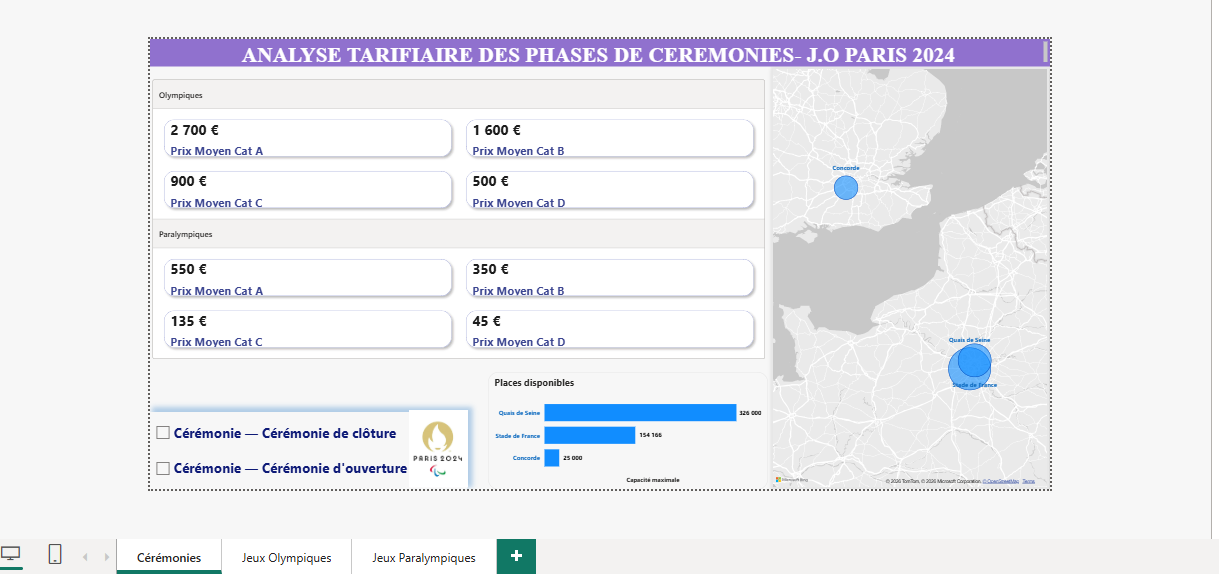

What the dashboard file says about the page in this screenshot:
{"tool":"powerbi","page":{"name":"Cérémonies","canvas":[1800,900],"ordinal":0},"visuals":[{"type":"cardVisual","title":"Tarif d''ensemble","fields":{"Data":["Matrice.Prix Moyen Cérémonie","Sheet 1.Prix Moyen Cat B","Sheet 1.Prix Moyen Cat C","Sheet 1.Prix Moyen Cat D"],"Rows":["Sheet 1.Jeux"]},"box":[0,55,1235,610],"z":0},{"type":"map","fields":{"Category":["Sheet 1.Lieu"],"Size":["Sheet 1.Prix Moyen Cat A"]},"box":[1242.5,55,557.5,845],"z":1000},{"type":"barChart","title":"Places disponibles ","fields":{"Category":["Sheet 1.Lieu"],"Y":["Sum(Sheet 1.capacité)"]},"box":[675,665,560,235],"z":2000},{"type":"slicer","fields":{"Values":["Sheet 1.Epreuve_complète"]},"box":[0,745,635,155],"z":3000},{"type":"textbox","box":[0,0,1800,55],"z":7000},{"type":"image","box":[517.5,742.5,117.5,155],"z":8000}]}

Visuals, with their boxes on the page's 1800x900 design canvas (x1, y1, x2, y2). These are canvas units, not pixel positions in the 1219x574 screenshot, which may show the page scaled, cropped or inside an application window:
"Tarif d''ensemble" cardVisual: (0,55,1235,665)
map - Sheet 1.Lieu x Sheet 1.Prix Moyen Cat A: (1242,55,1800,900)
"Places disponibles " barChart: (675,665,1235,900)
slicer - Sheet 1.Epreuve_complète: (0,745,635,900)
textbox: (0,0,1800,55)
image: (518,742,635,898)
